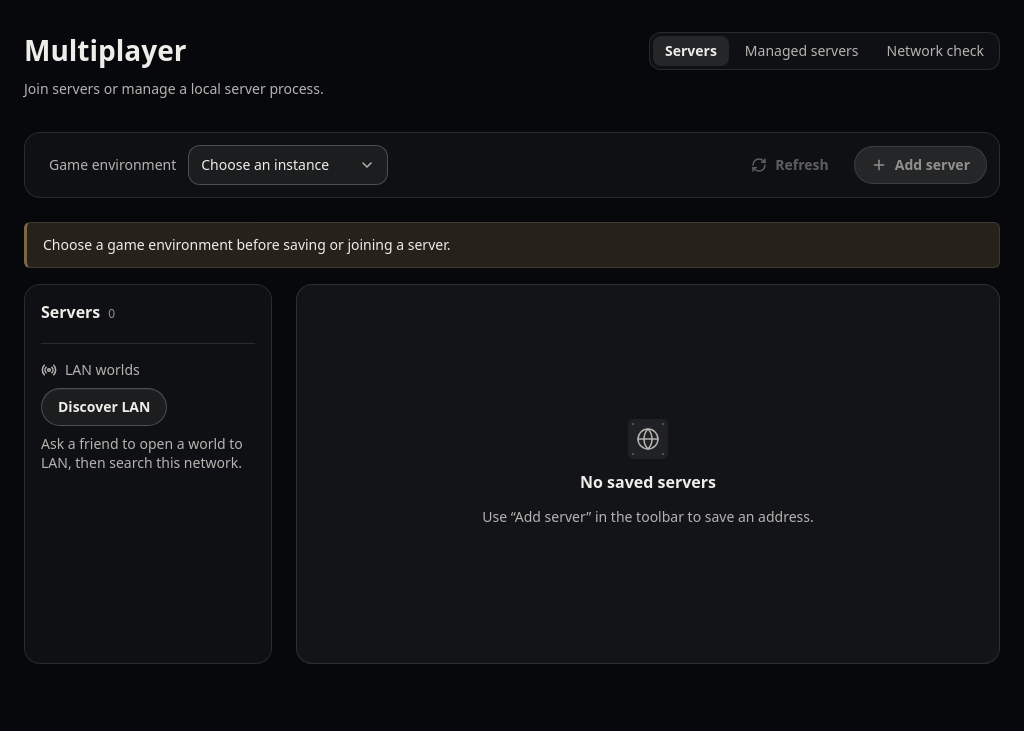
NetworkCheckPanel › offers the first check from the empty panel and describes the check once
Click the tab "Network check" at (935, 51), box [875,36,996,66]
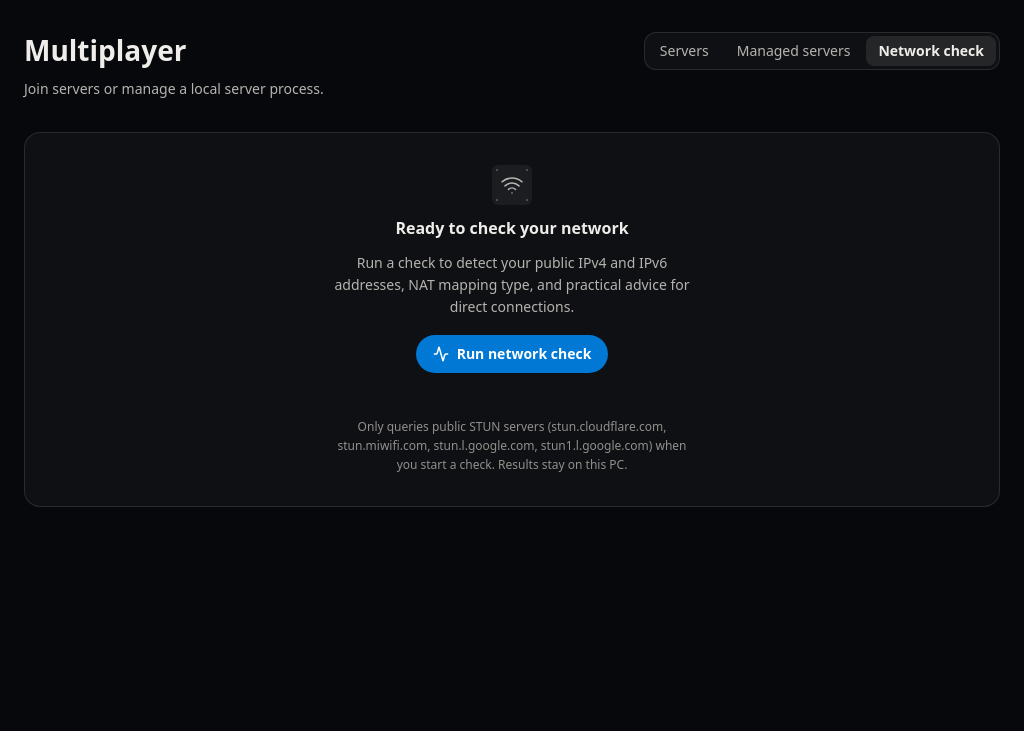
Check: the 1st icon is shown, box [500,173,524,197]
Check: the text "Check IPv4, IPv6, NAT mapping behavior" is not shown
Click the button "Run network check" at (512, 354), box [416,335,608,373]
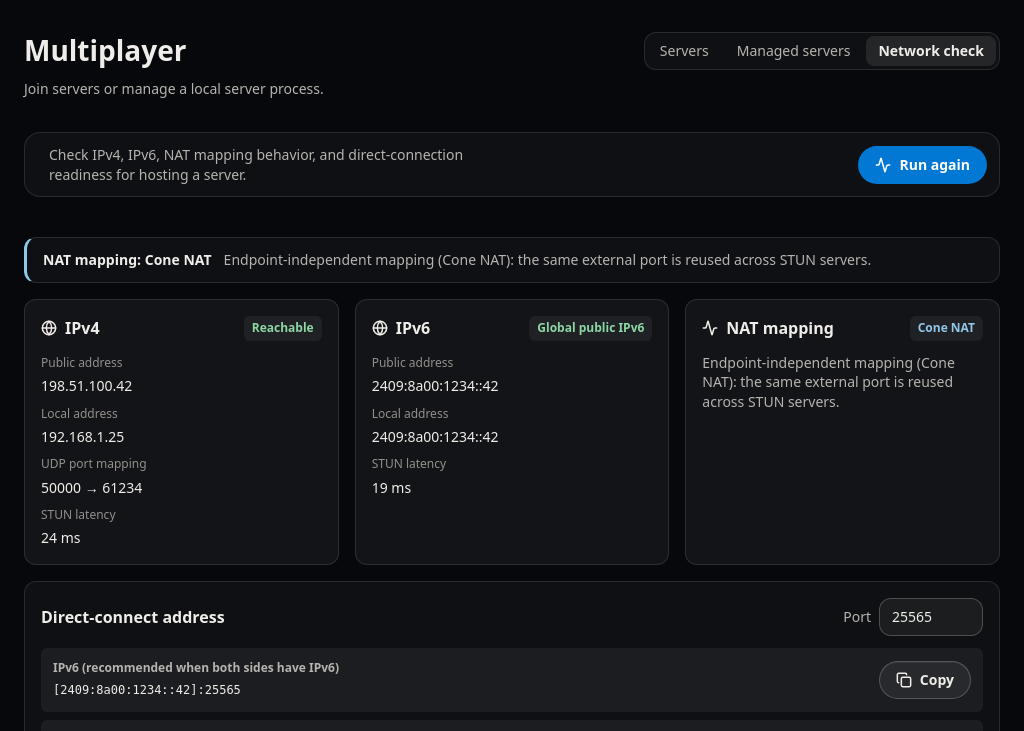
Check: the text "Check IPv4, IPv6, NAT mapping behavior" is shown, box [49,145,463,184]
Check: the text "Run again" is shown, box [858,146,987,184]
